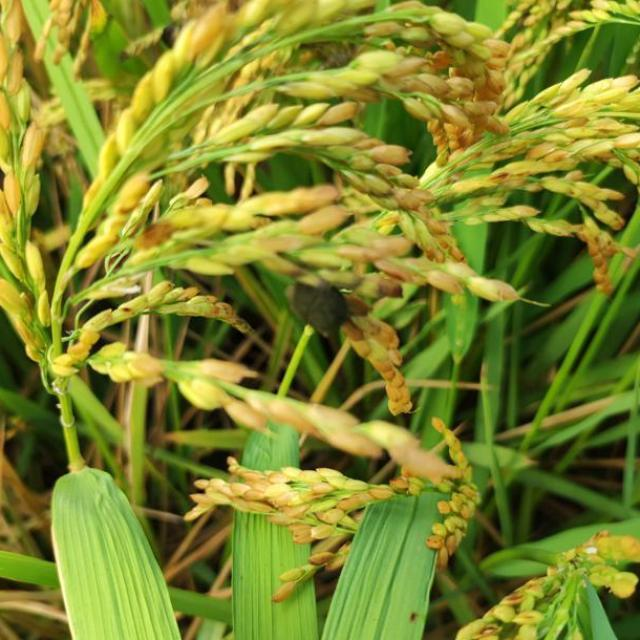Leaf_Scald: (286, 276, 352, 342), (306, 36, 358, 72)
